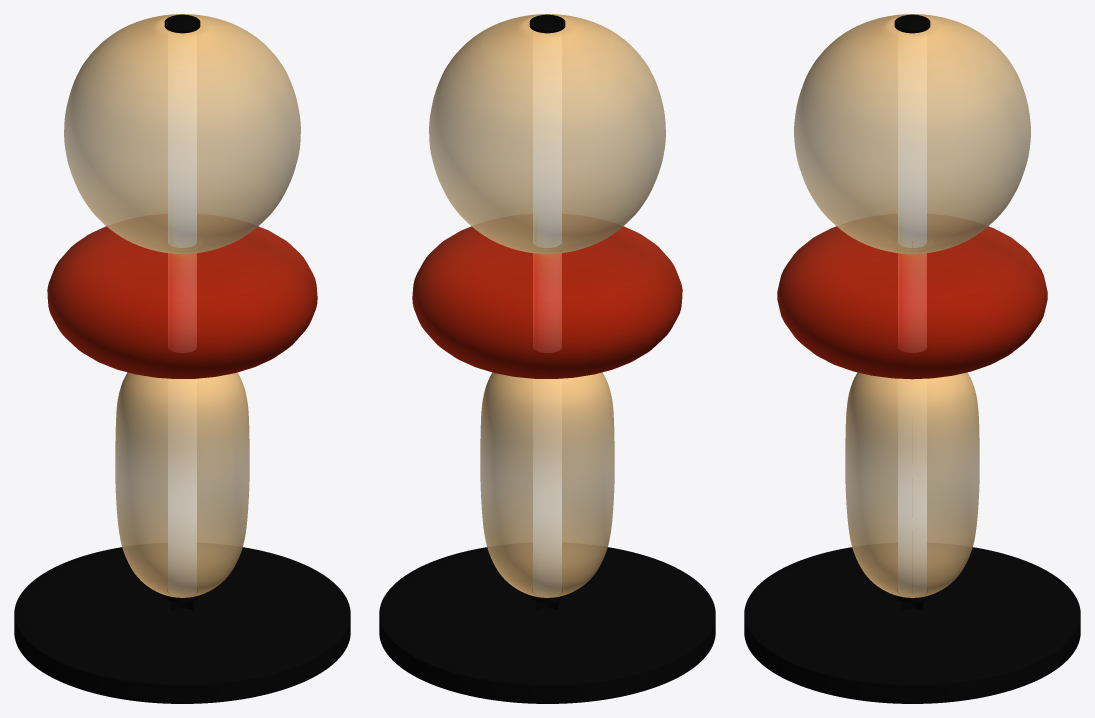
The model's file is table-lamp-3-heads-a-red-60cm.glb.
3 views of the same model, side by side, from view 1: azimuth 30°, elevation 25°; view 2: azimuth 150°, elevation 25°; view 3: azimuth 270°, elevation 25° (orthographic).
Parts seen in each view (by area): view 1: Combined_Mesh; view 2: Combined_Mesh; view 3: Combined_Mesh.
Boxes of the visible parts, <box> form: Combined_Mesh: <box>14,14,350,703</box>; Combined_Mesh: <box>379,14,715,703</box>; Combined_Mesh: <box>744,14,1080,703</box>.
Size of the model in its own units: 0.2995 by 0.6 by 0.2995.
3 materials, 1 textured.
